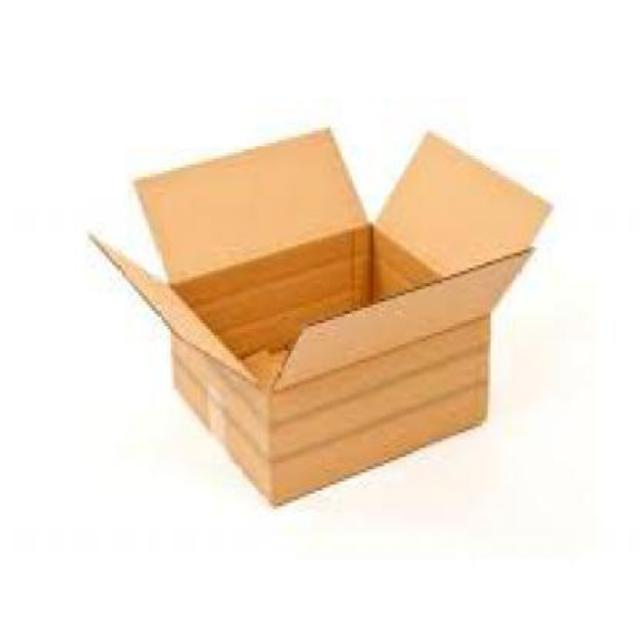cardboard_box: (88, 126, 546, 504)
